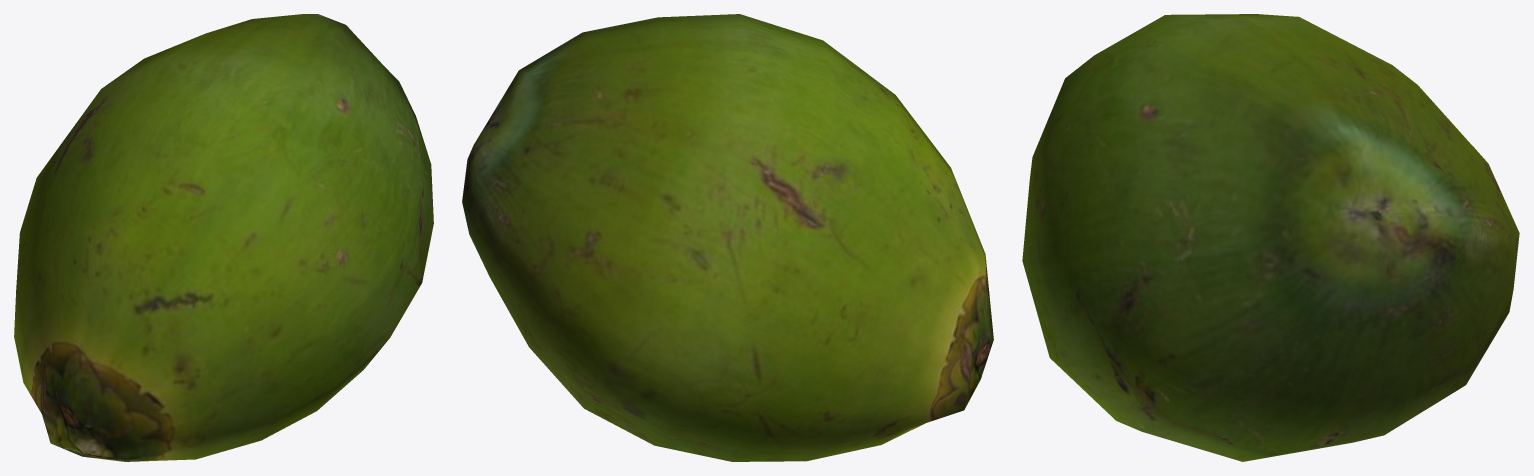
The model's file is A52_Coconut_low.fbx.
3 renders of one model, left to right at view 1: azimuth 30°, elevation 25°; view 2: azimuth 150°, elevation 25°; view 3: azimuth 270°, elevation 25°, orthographic. The views are drawn at different scales.
Visible parts, largest first — view 1: A52_Coconut_low; view 2: A52_Coconut_low; view 3: A52_Coconut_low.
Boxes of the visible parts, bbox=[...] form: A52_Coconut_low: bbox=[14, 14, 433, 461]; A52_Coconut_low: bbox=[462, 14, 993, 461]; A52_Coconut_low: bbox=[1022, 14, 1519, 461].
Bounding box in the file's own units: 20.39 × 18.16 × 17.15.
1 material, 1 textured.
